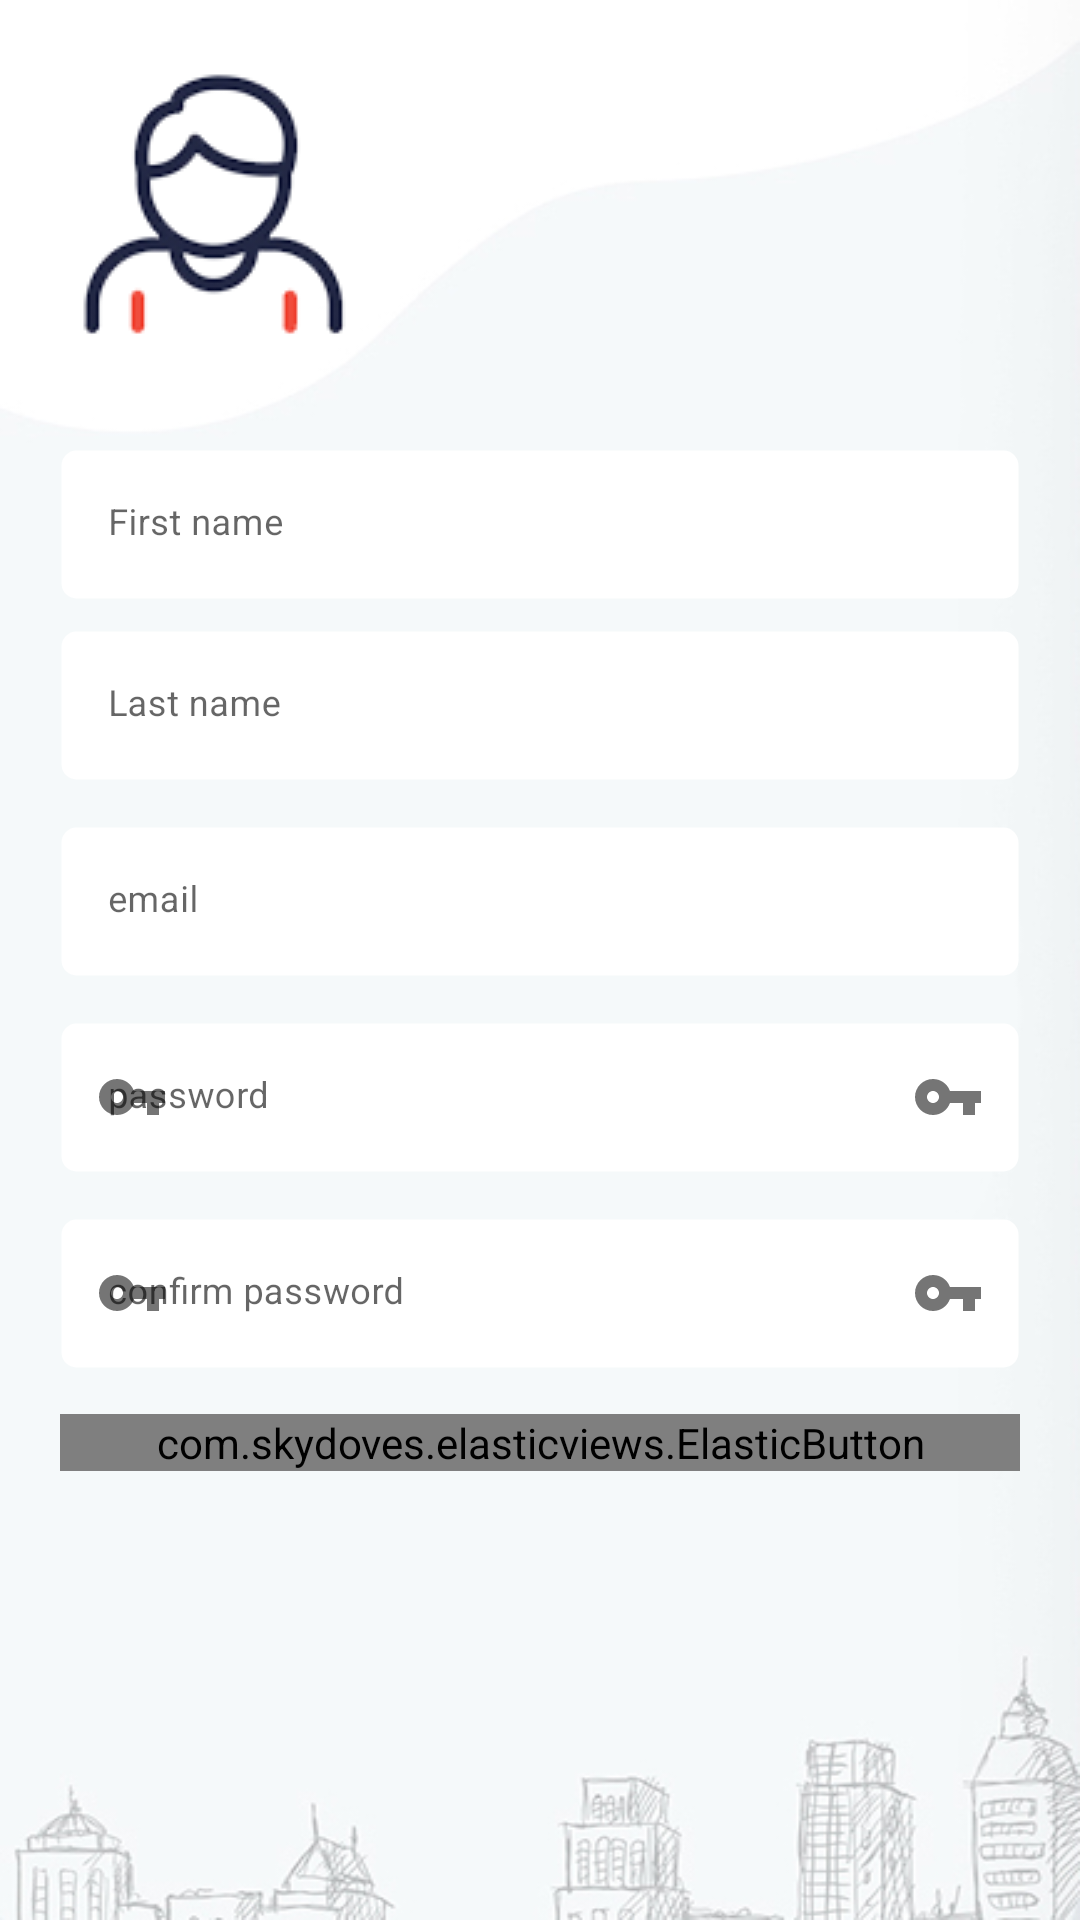

Locate icon controls on the screen. Image size 1080 x 1920, boxes as (x1, y1, x2, y2).
user: (83, 74, 343, 334)
